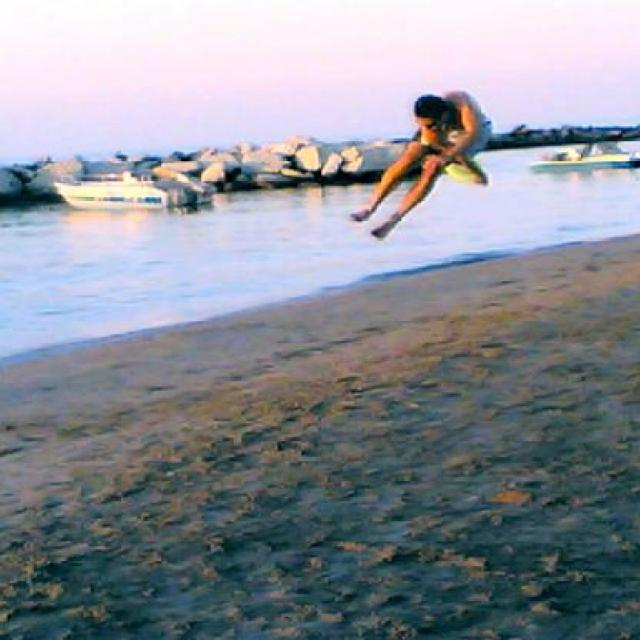ship: (50, 171, 216, 203), (523, 142, 635, 170)
